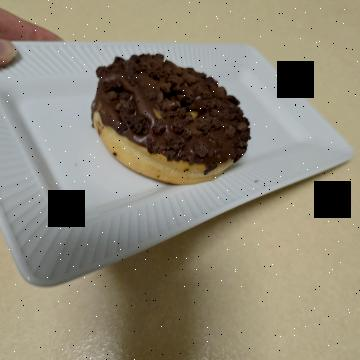doughnut: (52, 100, 210, 282)
